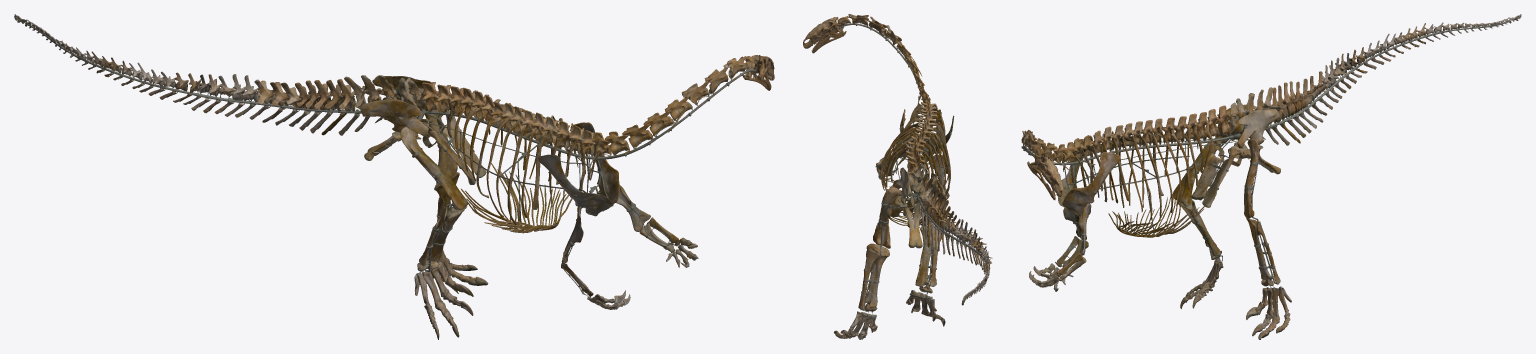
Rendered from plateosaurus-optimized.glb.
The picture shows the model from 3 angles, left to right: view 1: azimuth 30°, elevation 25°; view 2: azimuth 150°, elevation 25°; view 3: azimuth 270°, elevation 25°; orthographic projection. The views are drawn at different scales.
Visible parts, largest first — view 1: Object_2; view 2: Object_2; view 3: Object_2.
Part boxes in pixels (box(x1,y1,x2,y2)): Object_2: box(14, 14, 774, 339); Object_2: box(803, 14, 992, 339); Object_2: box(1021, 14, 1521, 339).
Size of the model in its own units: 8.38 by 4.99 by 8.89.
Materials: 1 (1 with a texture image).
